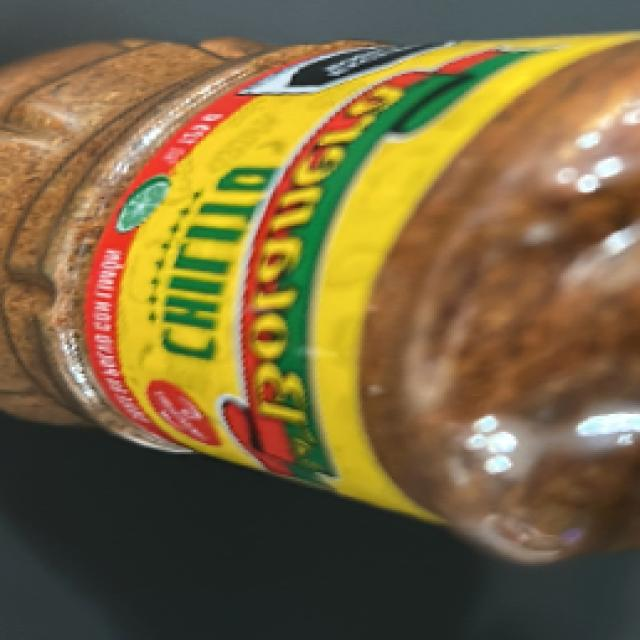botaneraChilito: (14, 50, 640, 495)
